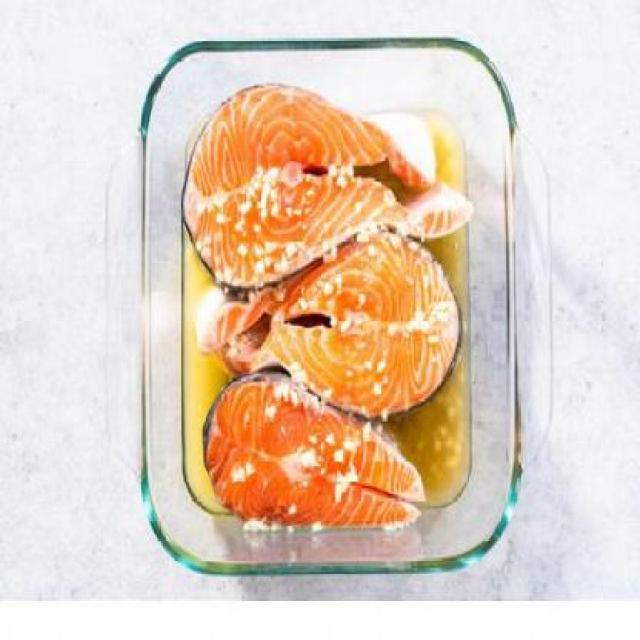salmon: (166, 68, 485, 292), (186, 240, 465, 422), (191, 354, 449, 548)
